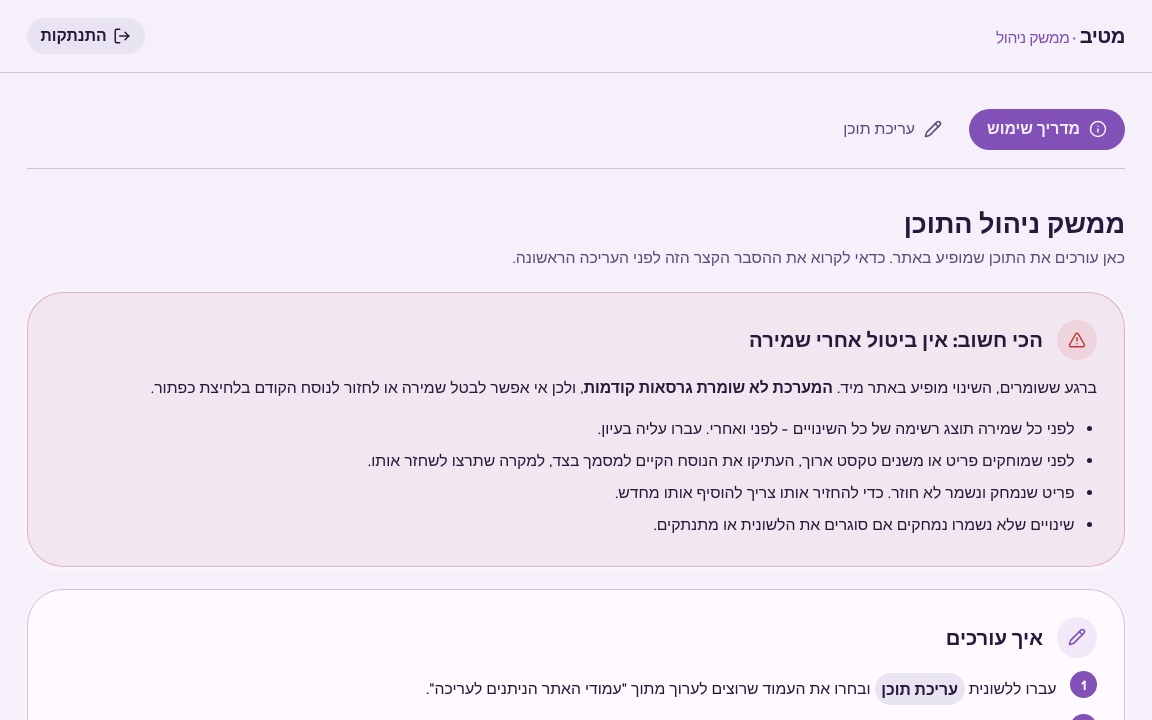
Test: chatbot Q&A admin › lists the questions in the Metiv variant, as a page of the tools at the end of the tree
The width and height of the screenshot is (1152, 720).
Click the button "עריכת תוכן". click: (893, 129)
box: [825,109,960,150]
(page scrolled)
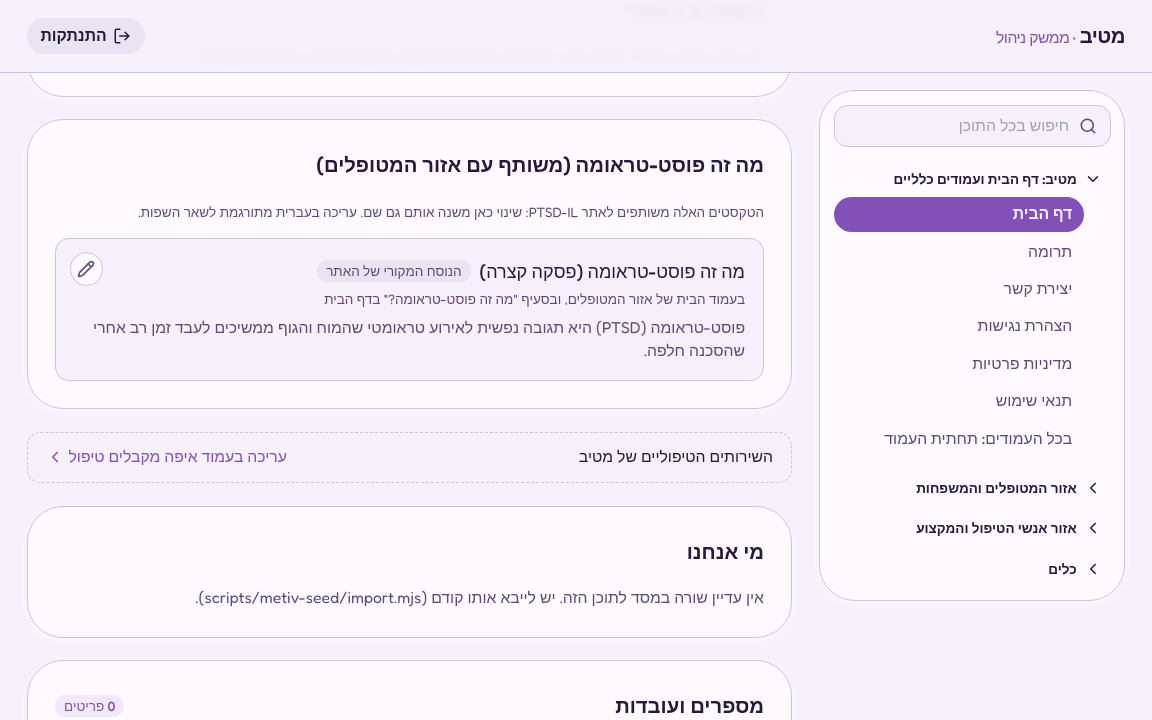
Click the button "כלים". click: (1092, 569)
box: [834,551,1110,587]
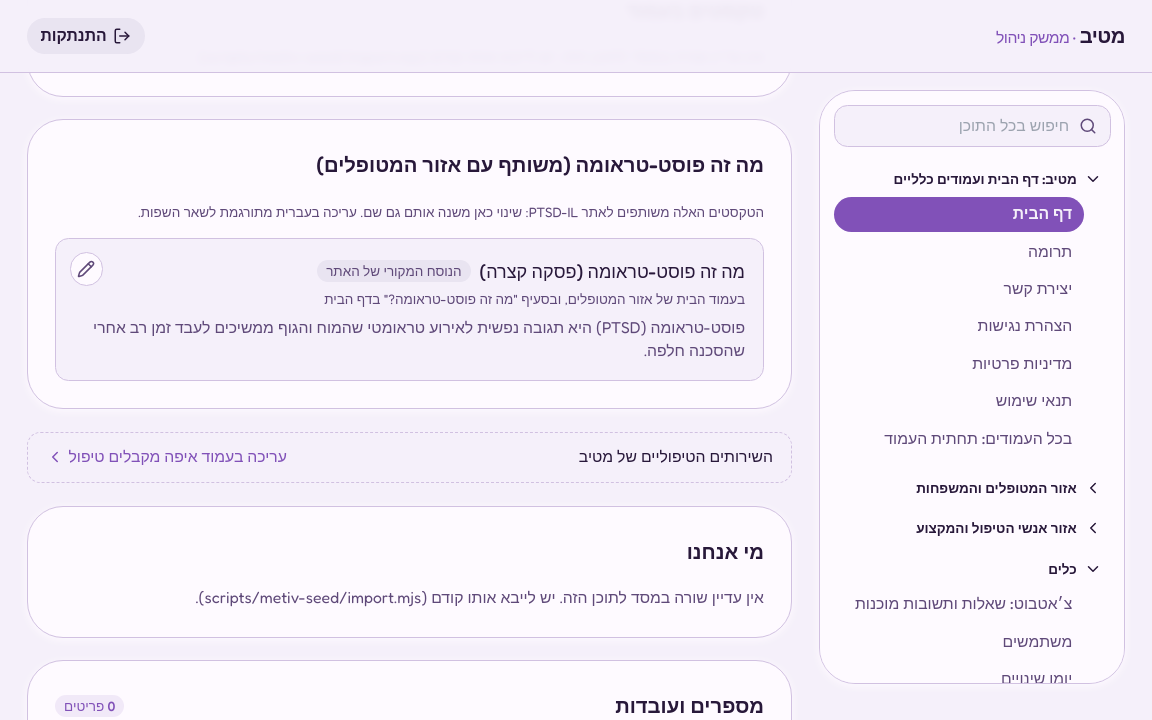
Click the button "צ׳אטבוט: שאלות ותשובות מוכנות". click: (958, 604)
box: [834,587,1084,622]
(page scrolled)
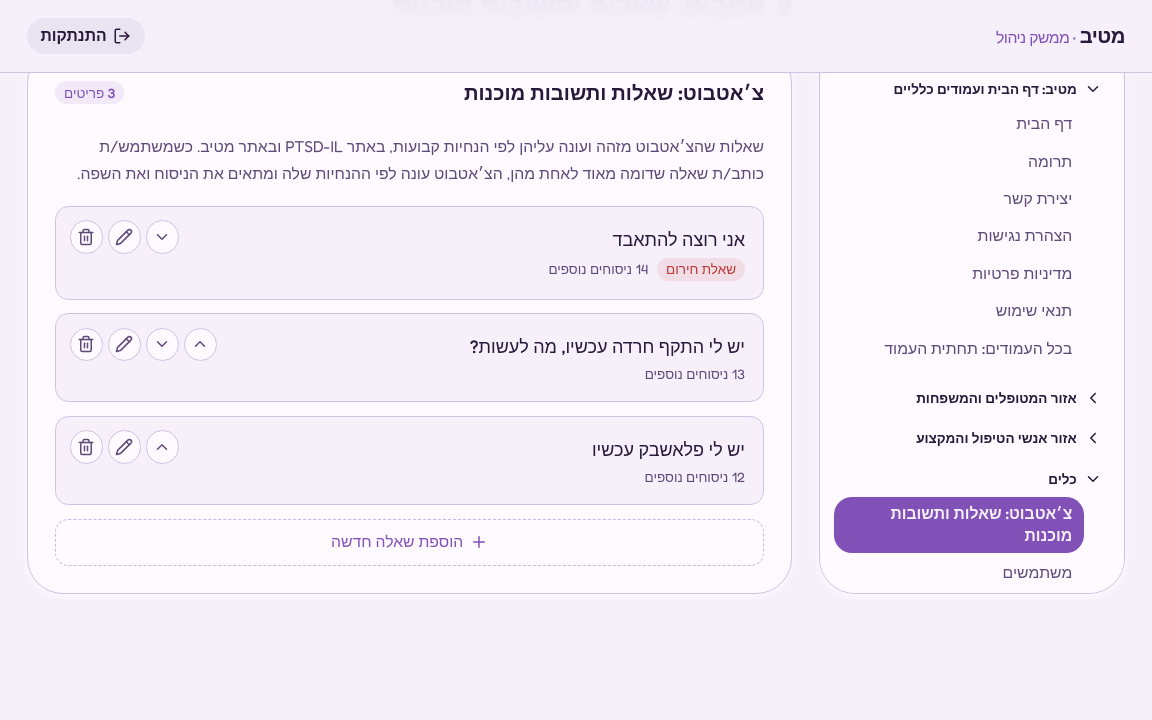
Expected: the text "יש לי התקף חרדה עכשיו, מה לעשות?" is shown, [470,335,745,357]
Expected: the text "שאלת חירום" is shown, [657,258,745,281]
